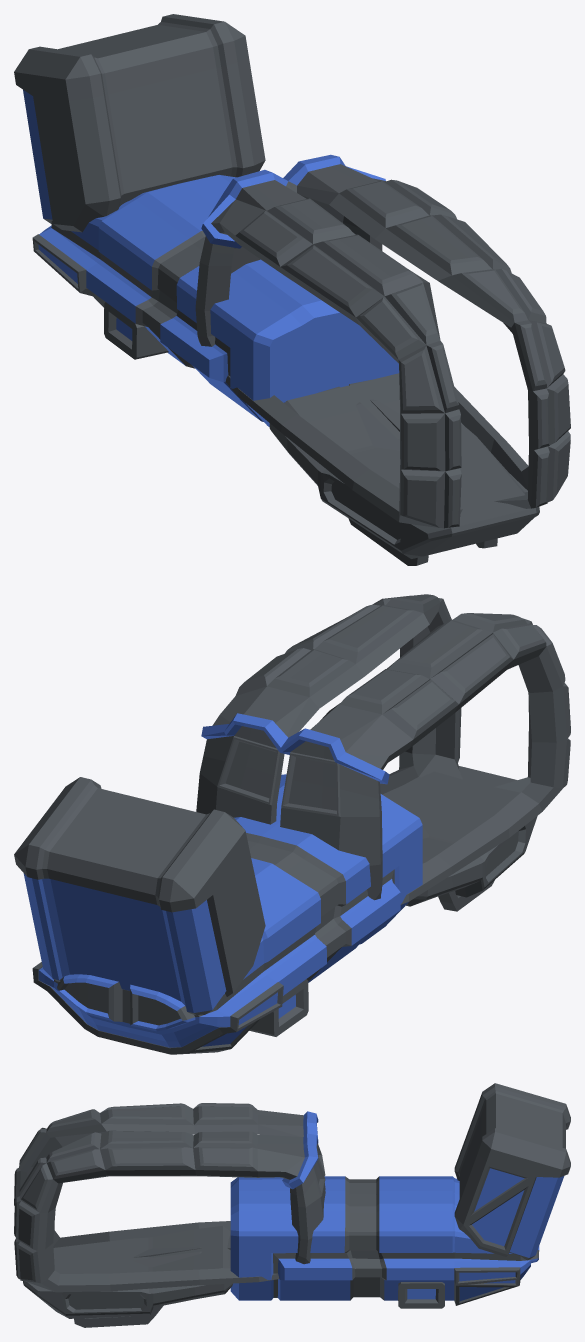
Rendered from Personal_Vehicle_02_Body_Blue.fbx.
The picture shows the model from 3 angles, top to bottom: view 1: azimuth 30°, elevation 25°; view 2: azimuth 150°, elevation 25°; view 3: azimuth 270°, elevation 25°; orthographic projection. The views are drawn at different scales.
Visible parts, largest first — view 1: Personal_Vehicle_02_Body_Blue; view 2: Personal_Vehicle_02_Body_Blue; view 3: Personal_Vehicle_02_Body_Blue.
Part boxes in pixels (<box>): Personal_Vehicle_02_Body_Blue: <box>14,14,570,565</box>; Personal_Vehicle_02_Body_Blue: <box>14,594,570,1054</box>; Personal_Vehicle_02_Body_Blue: <box>14,1083,570,1327</box>.
Bounding box in the file's own units: 104 × 144 × 353.
2 materials, 2 textured.
